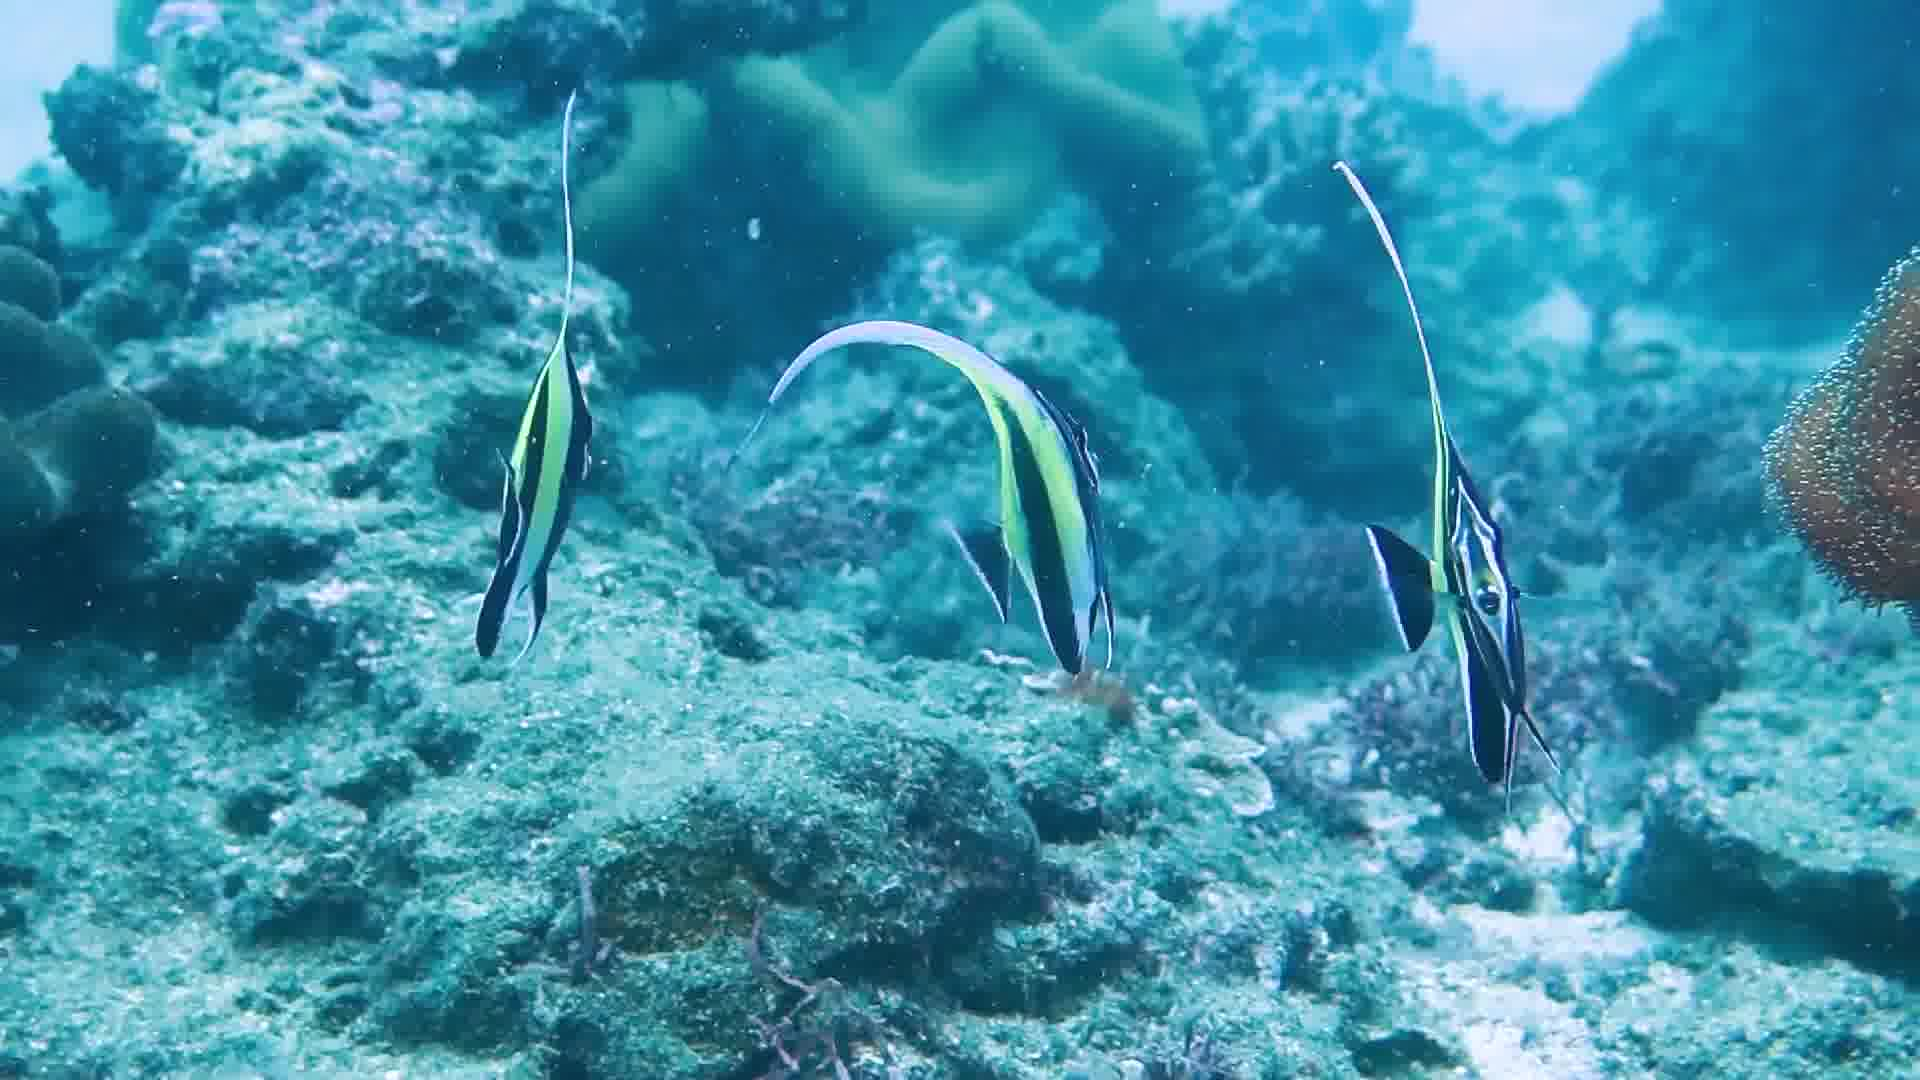Zanclus cornutus: (1328, 375, 1572, 752), (905, 310, 1135, 680), (435, 282, 633, 644)
